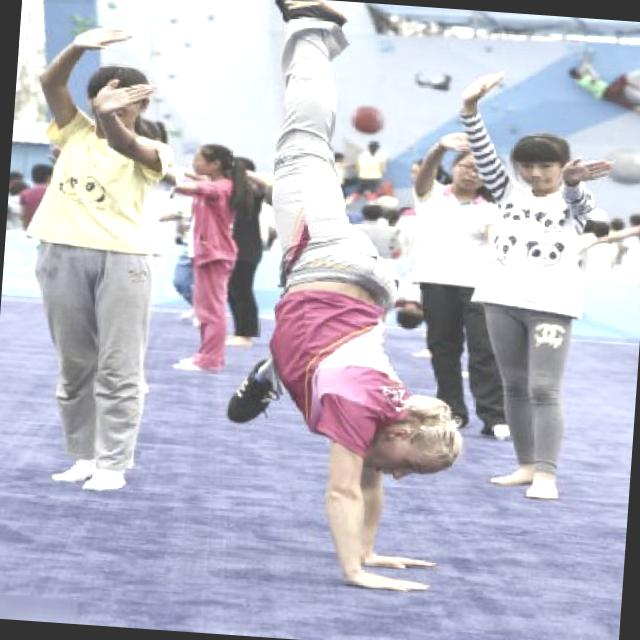Person: (384, 49, 640, 559)
